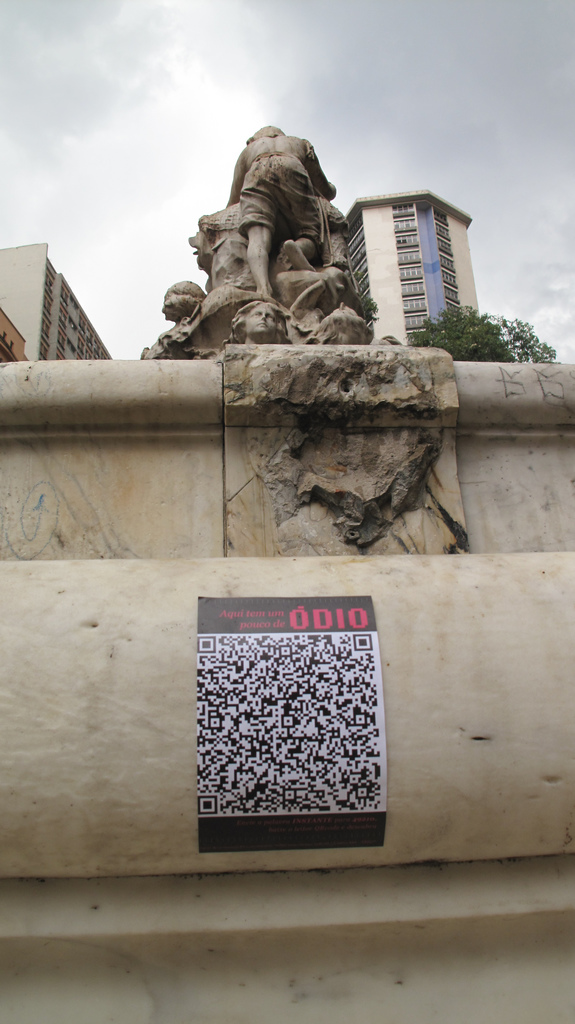QR-CODE: (197, 634, 380, 813)
